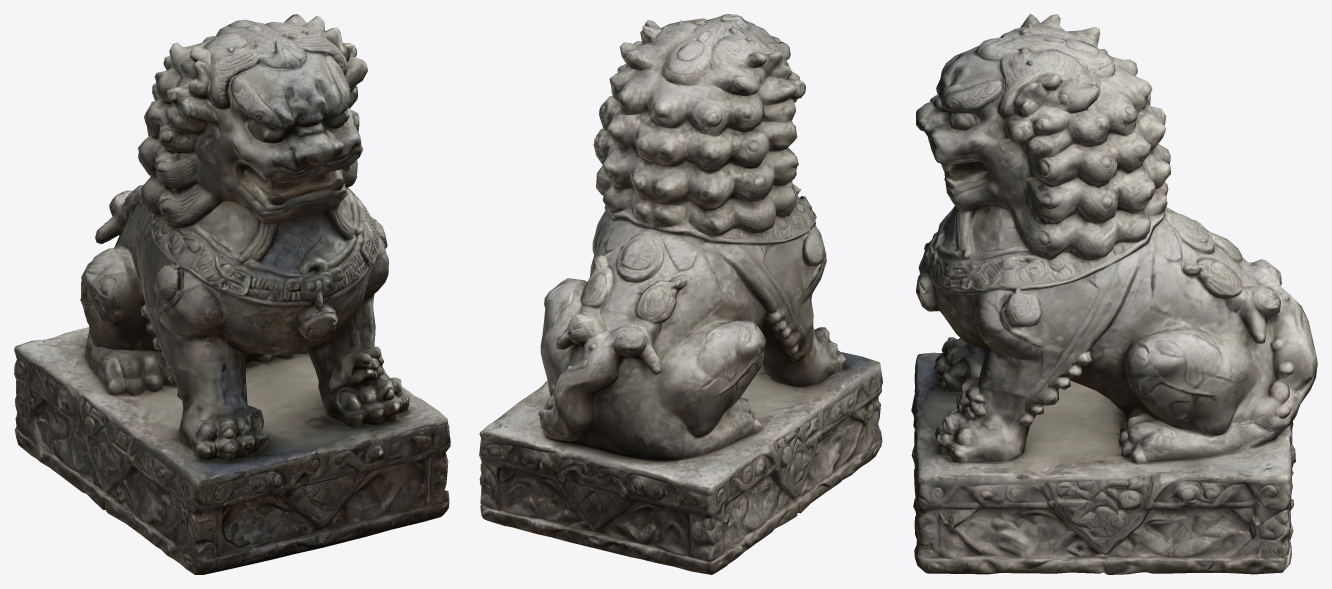
File: lion-high.glb
3 views of the same model, side by side, from view 1: azimuth 30°, elevation 25°; view 2: azimuth 150°, elevation 25°; view 3: azimuth 270°, elevation 25° (orthographic). The views are drawn at different scales.
Size of the model in its own units: 0.5798 by 0.9999 by 0.7731.
1 material, 1 textured.
